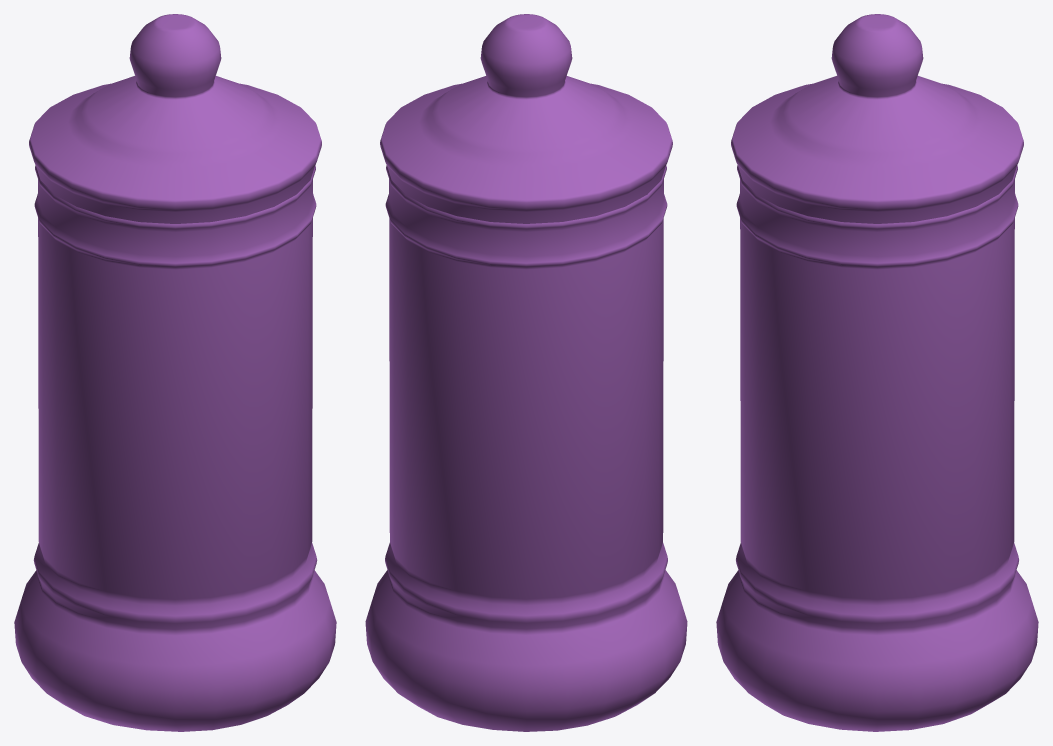
Rendered from SM_Jar_02_Unity.fbx.
The picture shows the model from 3 angles, left to right: view 1: azimuth 30°, elevation 25°; view 2: azimuth 150°, elevation 25°; view 3: azimuth 270°, elevation 25°; orthographic projection.
Parts seen in each view (by area): view 1: SM_Jar_02; view 2: SM_Jar_02; view 3: SM_Jar_02.
Boxes of the visible parts, x1,y1,x2,y2 form: SM_Jar_02: (14, 14, 336, 731); SM_Jar_02: (365, 14, 687, 731); SM_Jar_02: (716, 14, 1038, 731).
Bounding box in the file's own units: 17.32 × 38.94 × 17.32.
